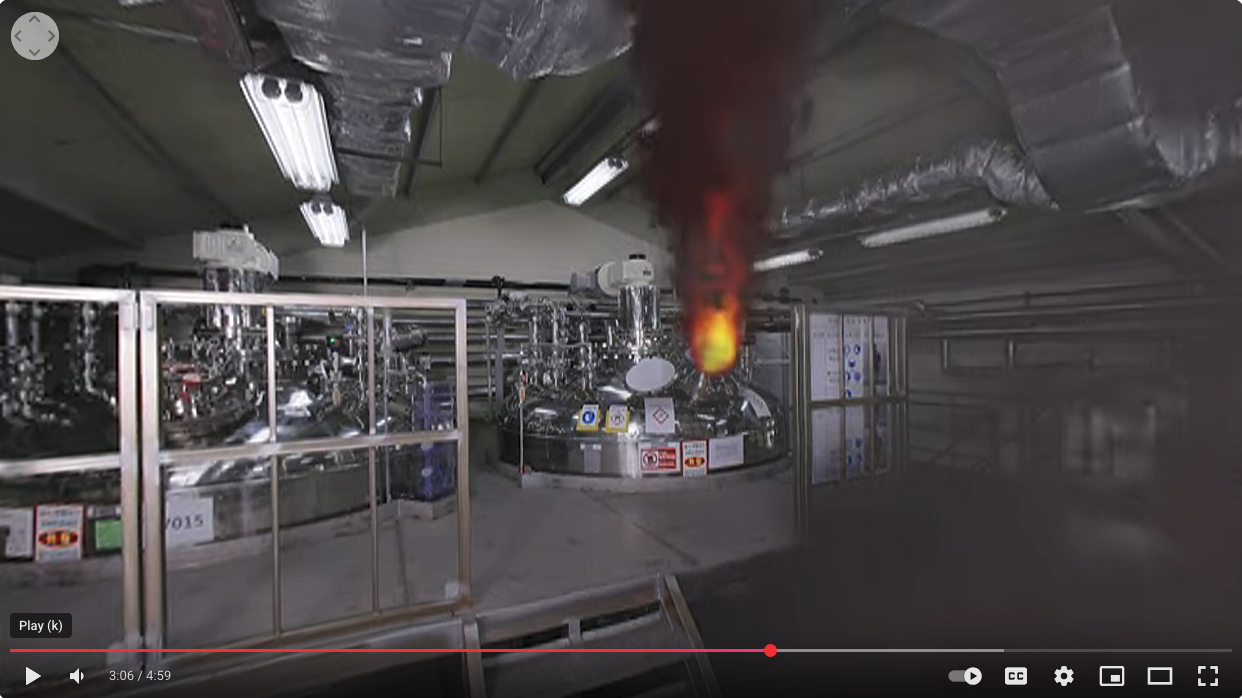fire: (608, 105, 838, 387)
